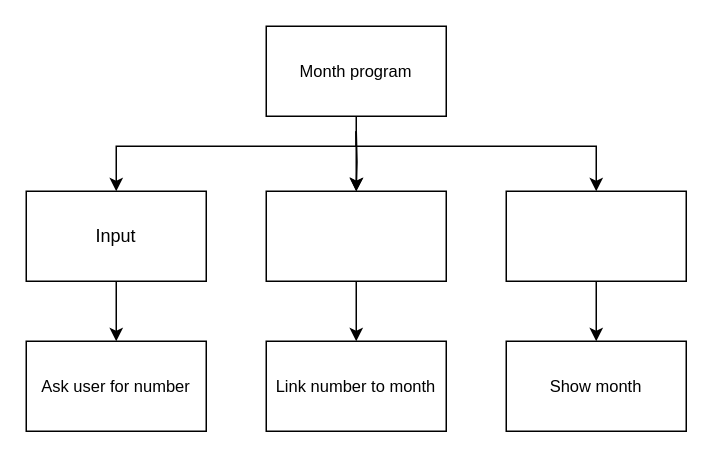
This 713x458 diagram has some shape labels left out. Each missing label, with the centre of its shape:
Output: (x=595, y=235)
Process: (x=355, y=235)
